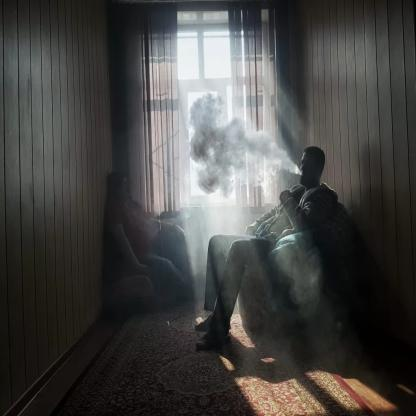smoke: (189, 95, 300, 201)
